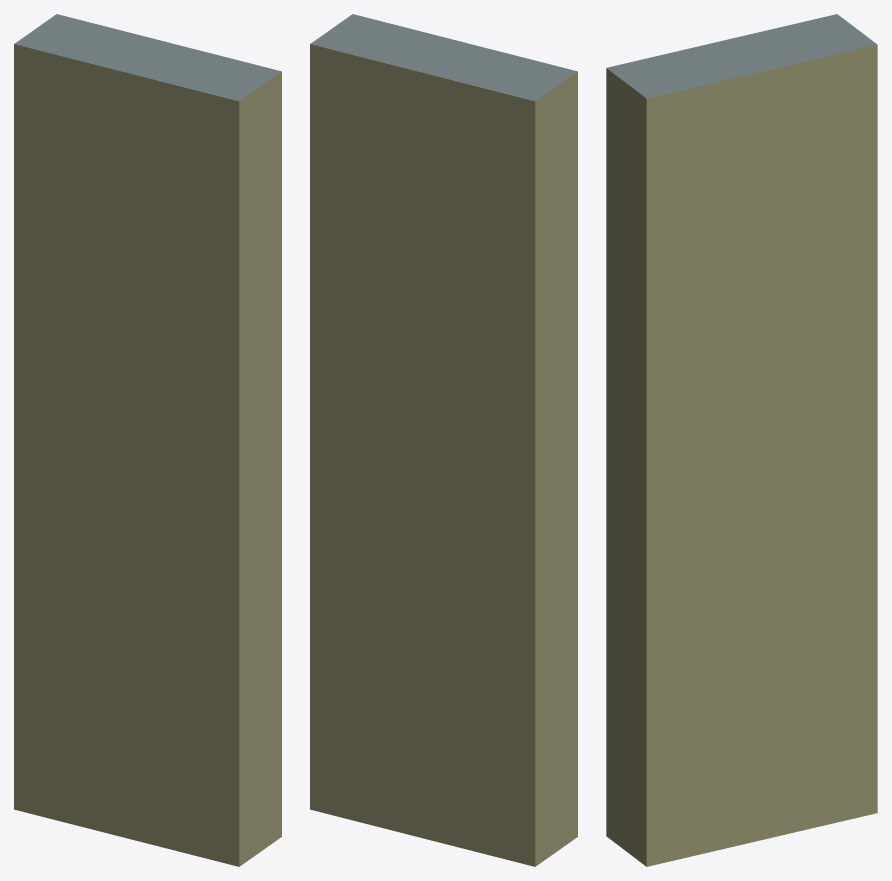
The model's file is nyc-1090617-0.glb.
3 views of the same model, side by side, from view 1: azimuth 30°, elevation 25°; view 2: azimuth 210°, elevation 25°; view 3: azimuth 270°, elevation 25° (orthographic).
Parts seen in each view (by area): view 1: nyc-1090617-0; view 2: nyc-1090617-0; view 3: nyc-1090617-0.
Boxes of the visible parts, x1,y1,x2,y2 form: nyc-1090617-0: (14,14,281,866); nyc-1090617-0: (310,14,577,866); nyc-1090617-0: (606,14,877,866).
Size of the model in its own units: 45.17 by 191 by 61.22.
